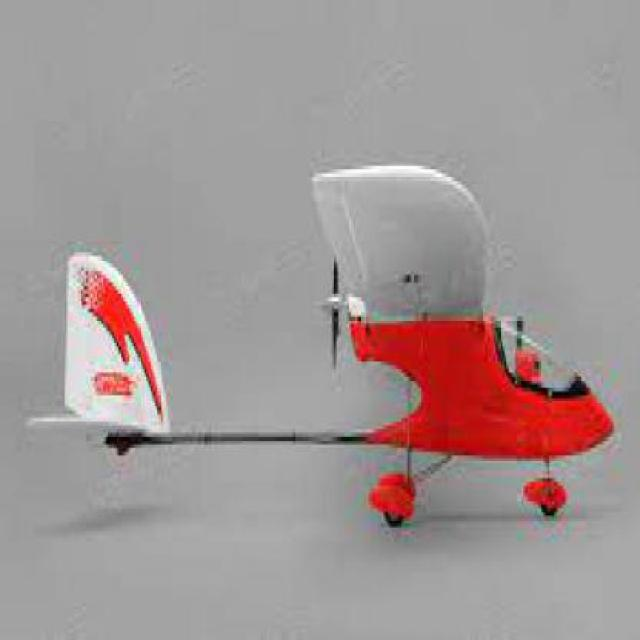iha: (12, 164, 620, 520)
